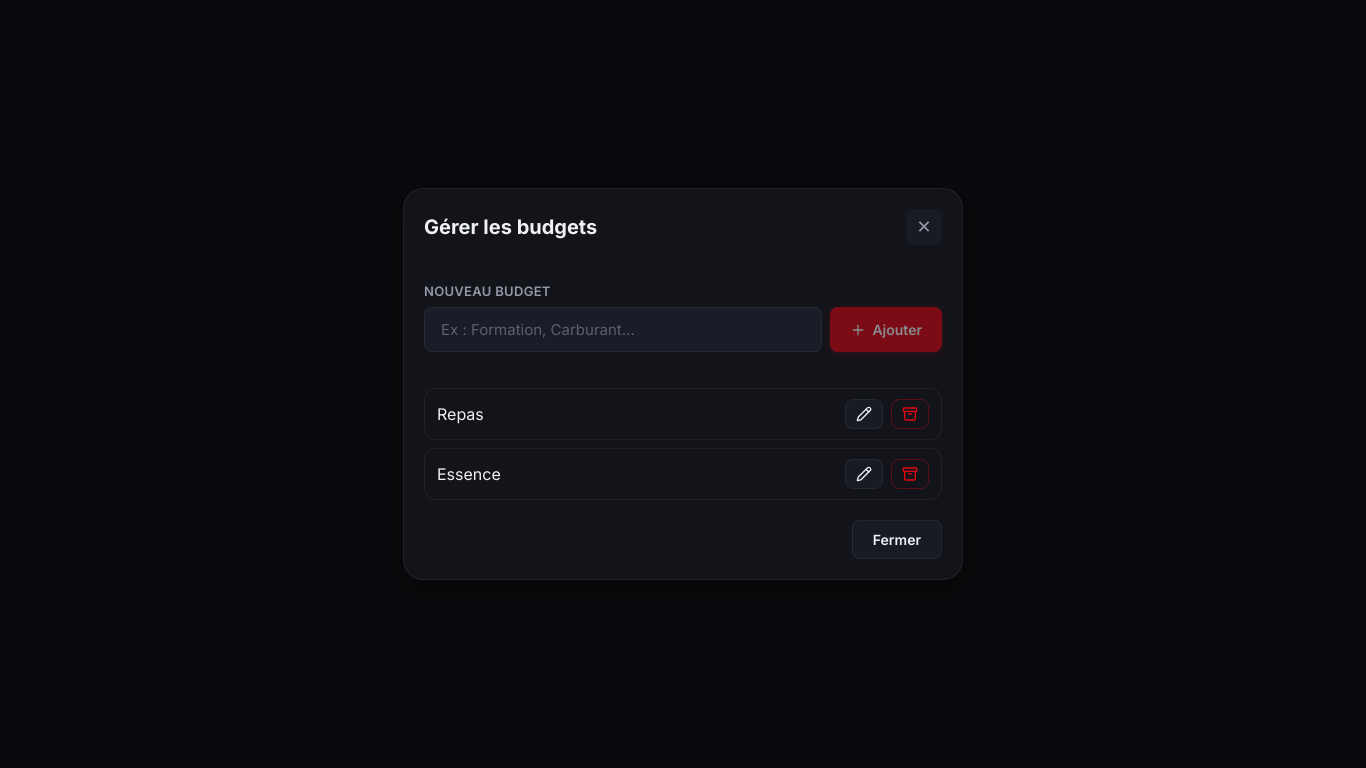
Test: ExpenseBudgetsModal › le refus d'archiver le dernier budget actif est affiché tel quel
Expected: the text "Repas" is shown, [437,404,484,424]
Click the button named "Archiver Repas" at {"x": 910, "y": 414}, box [891,399,929,429]
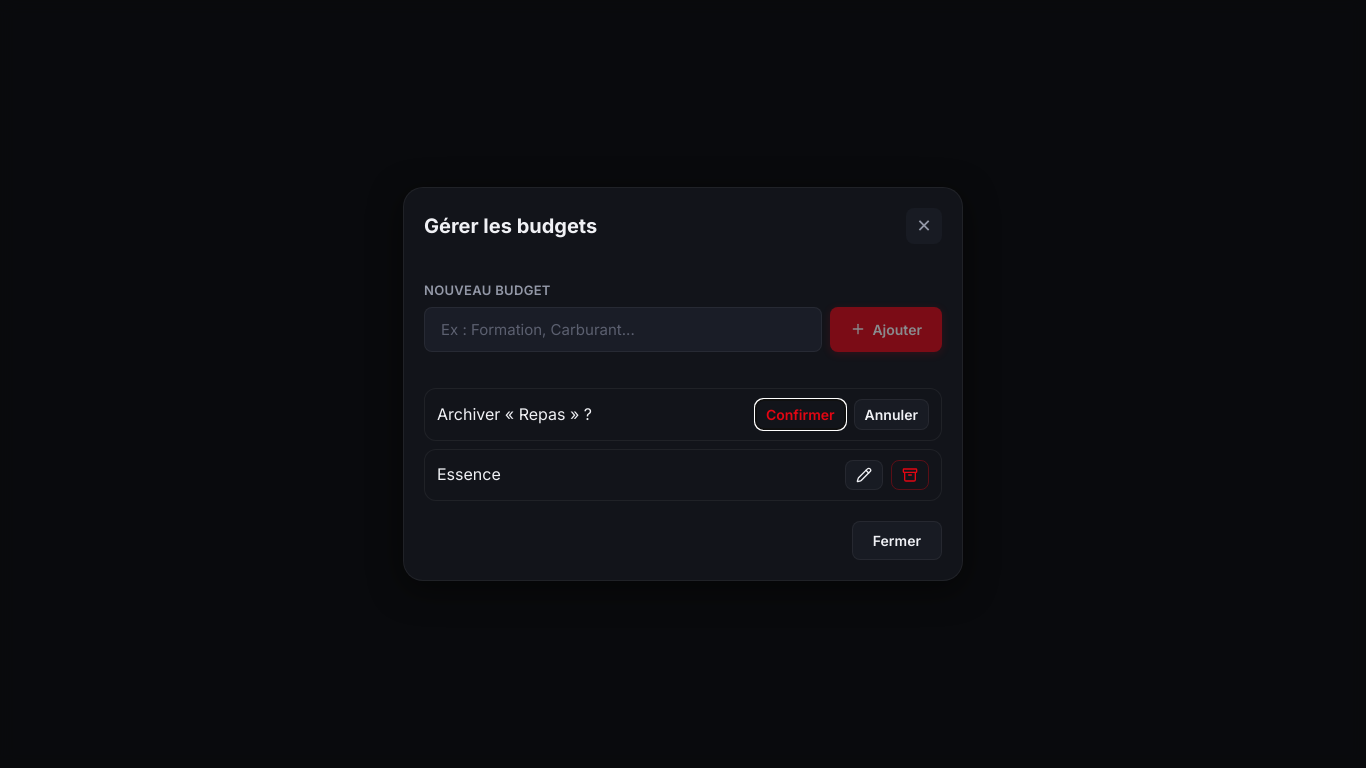
Click the button "Confirmer" at {"x": 800, "y": 414}, box [755,399,846,430]
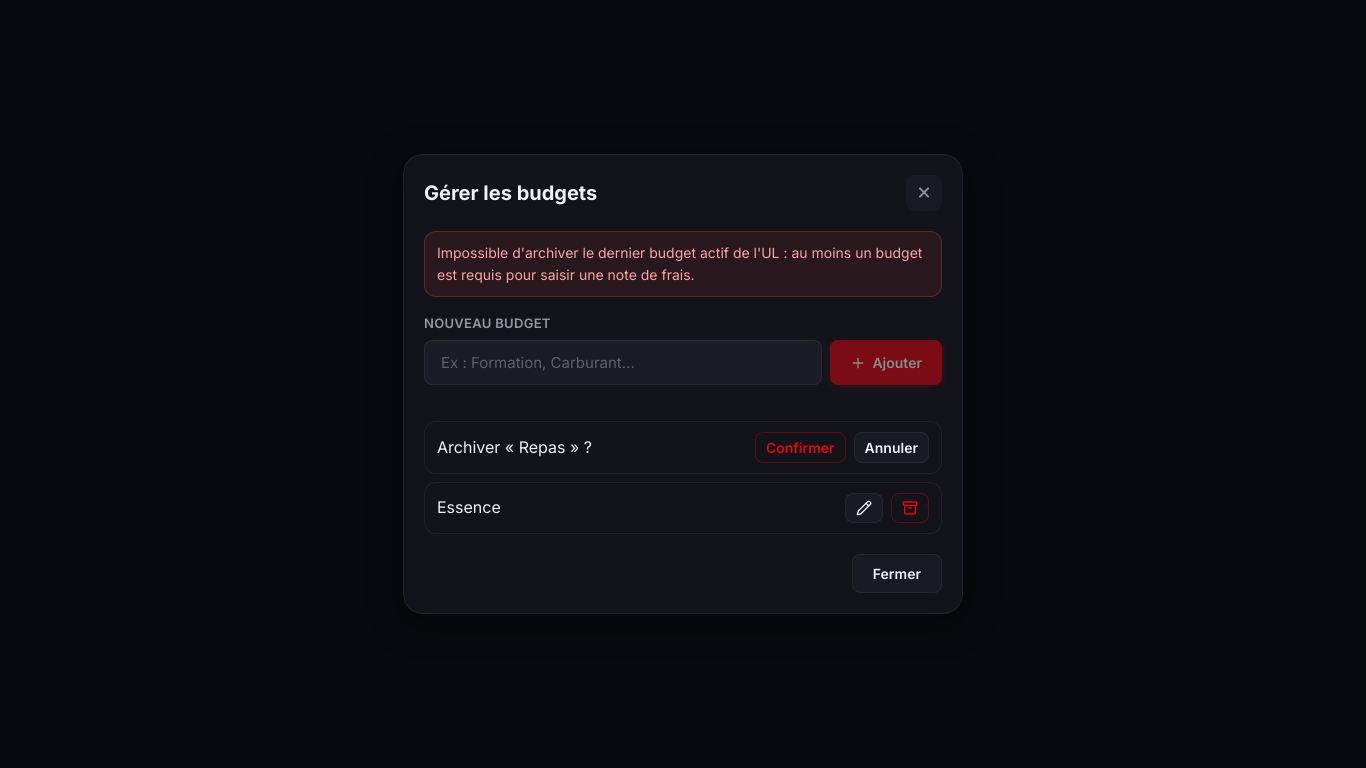
Now the text "Archiver « Repas » ?" is shown, box [437,437,592,457]
Now the text "Impossible d'archiver le dernier budget actif de l'UL : au moins un budget est requis pour saisir une note de frais." is shown, box [437,244,922,283]
